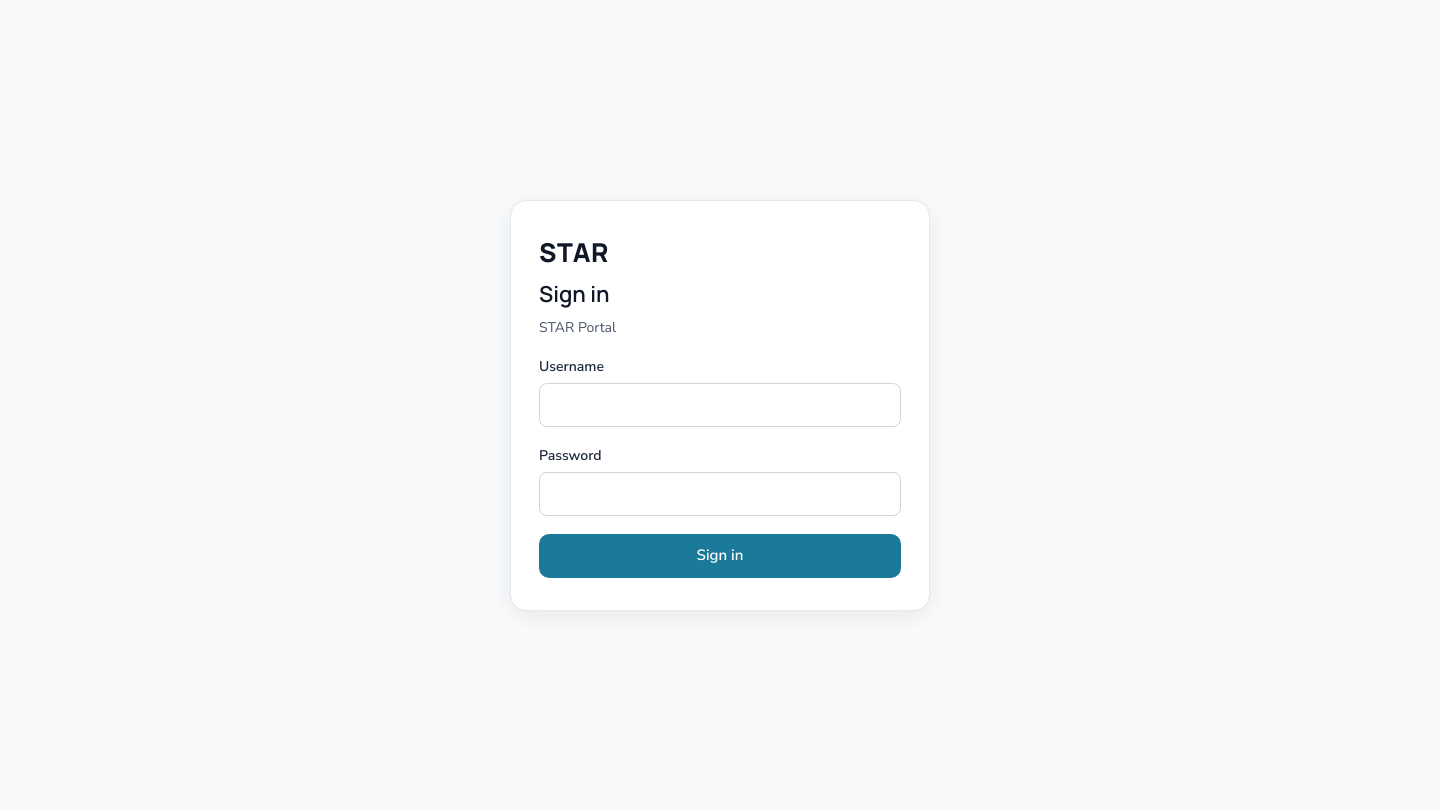
Test: Sign in and sign out (BPA-125) › BPA125_logout
Expected: the heading "Sign in" is shown, [539,278,610,308]
Type "timekeeper" into the field labelled "Username". click: [720, 404]
box: [539,382,901,426]
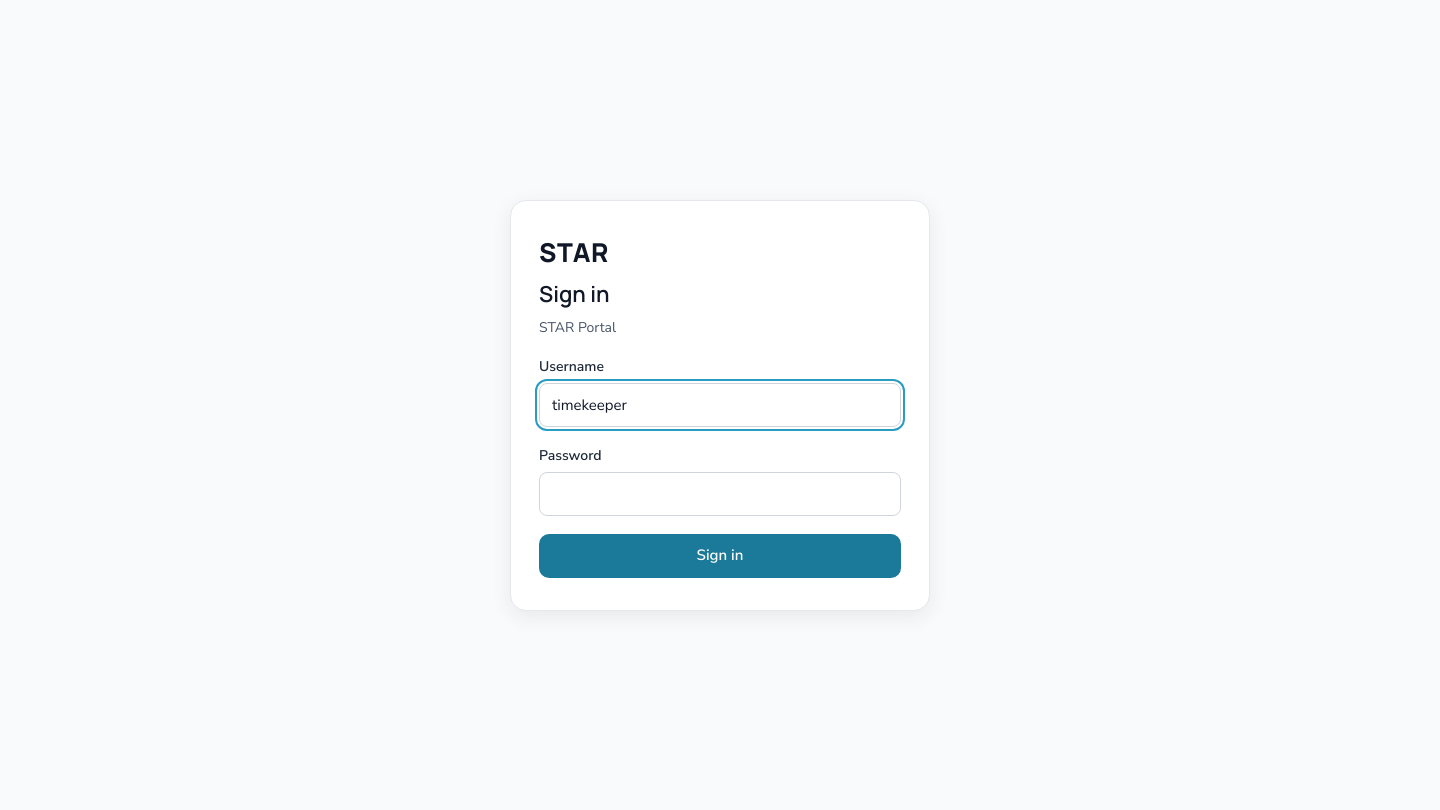
Type "right" into the password field labelled "Password". click: [720, 494]
box: [539,472,901,516]
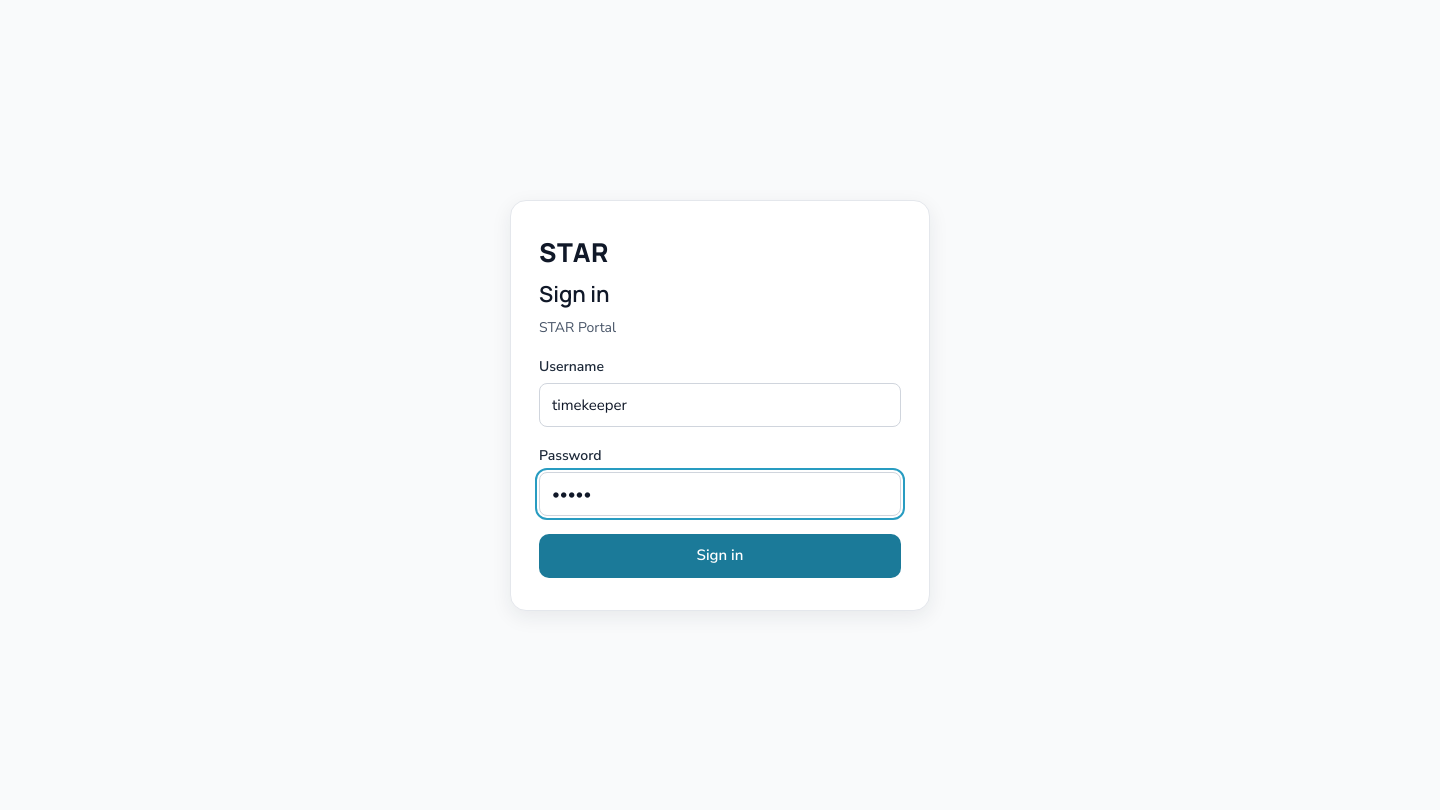
Click the button "Sign in". click: [720, 556]
box: [539,534,901,578]
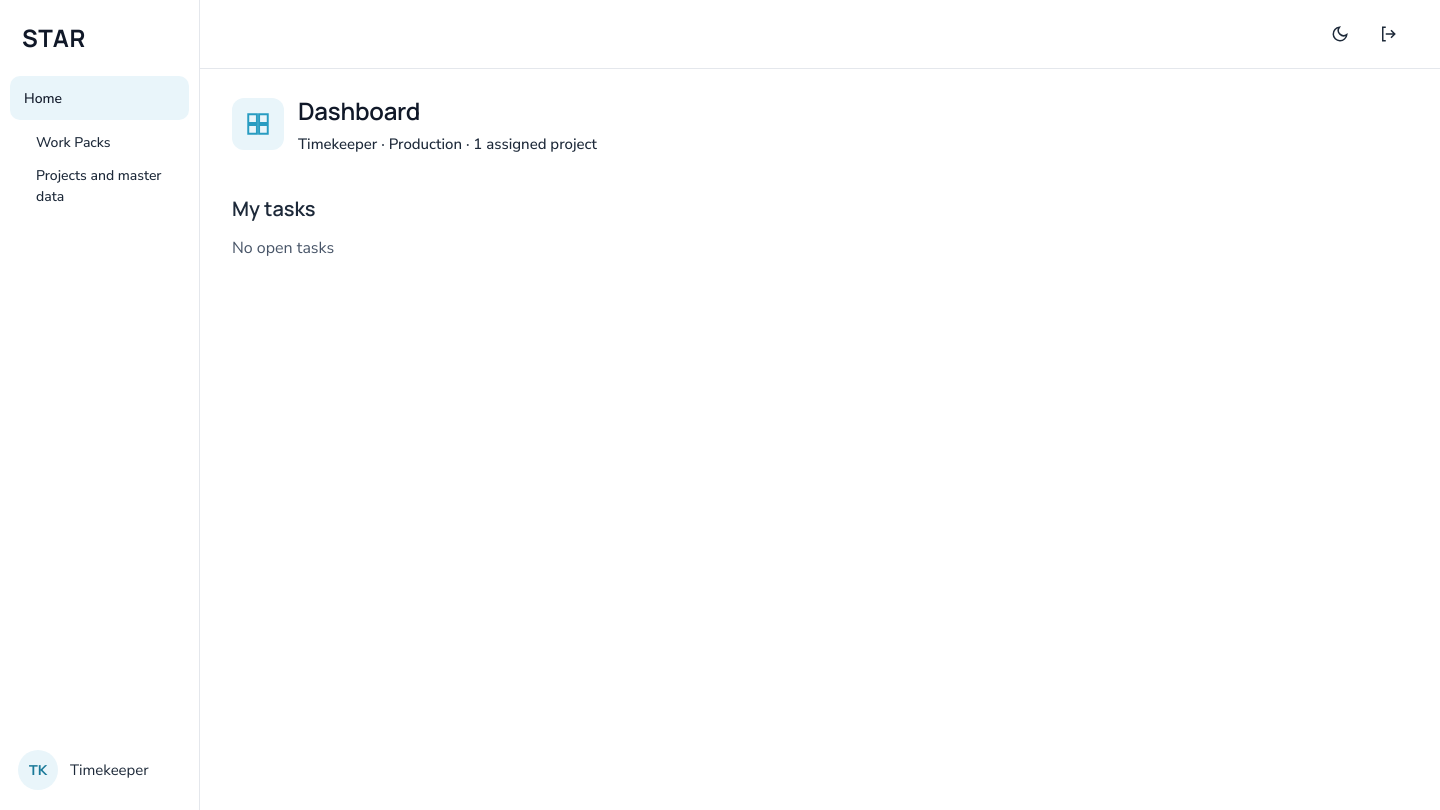
Now the heading "Dashboard" is shown, box [298,94,420,127]
Click the button named "Logout". click: [1388, 34]
box: [1368,14,1408,54]
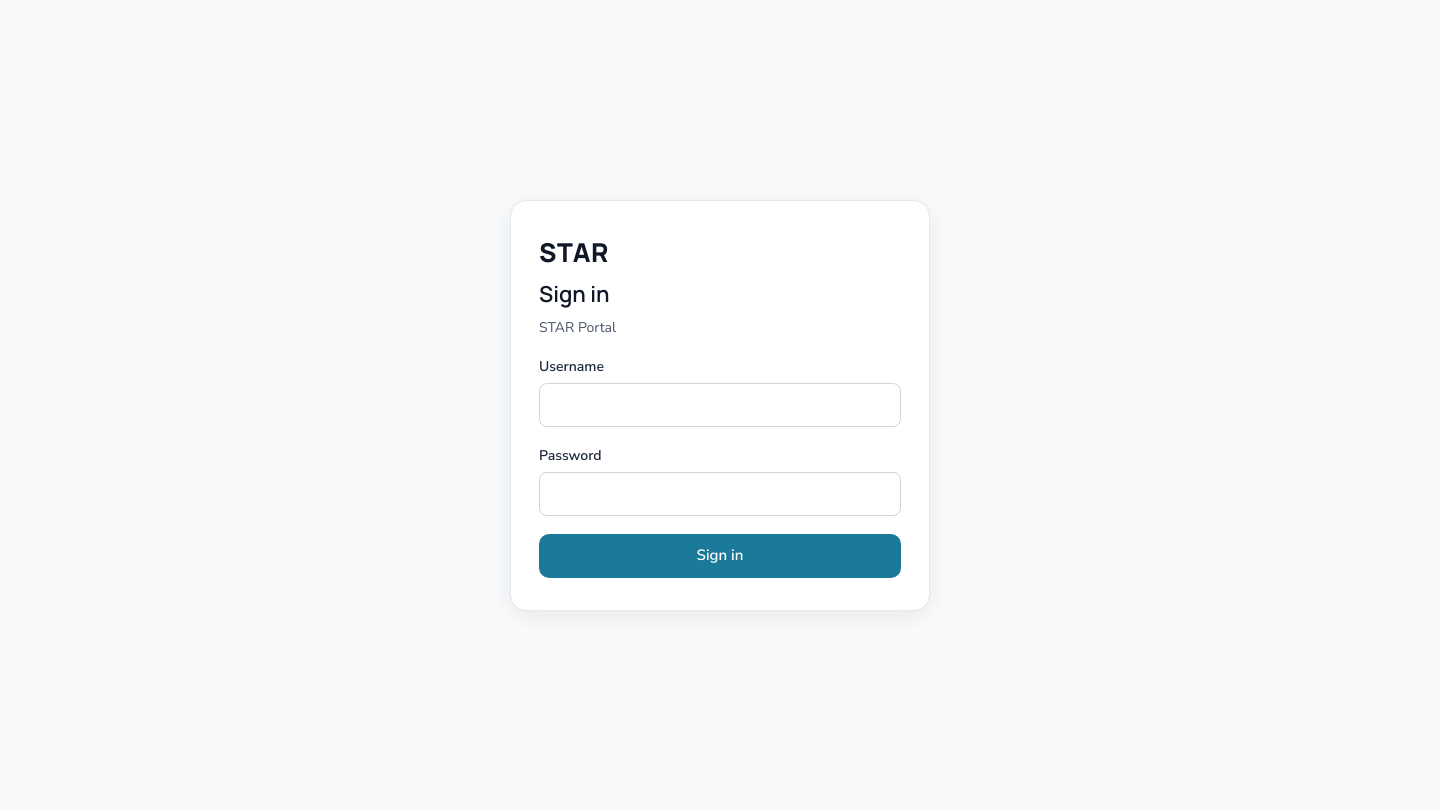
Expected: the password field labelled "Password" is empty, [539,472,901,516]
Now the heading "Sign in" is shown, box [539,278,610,308]
